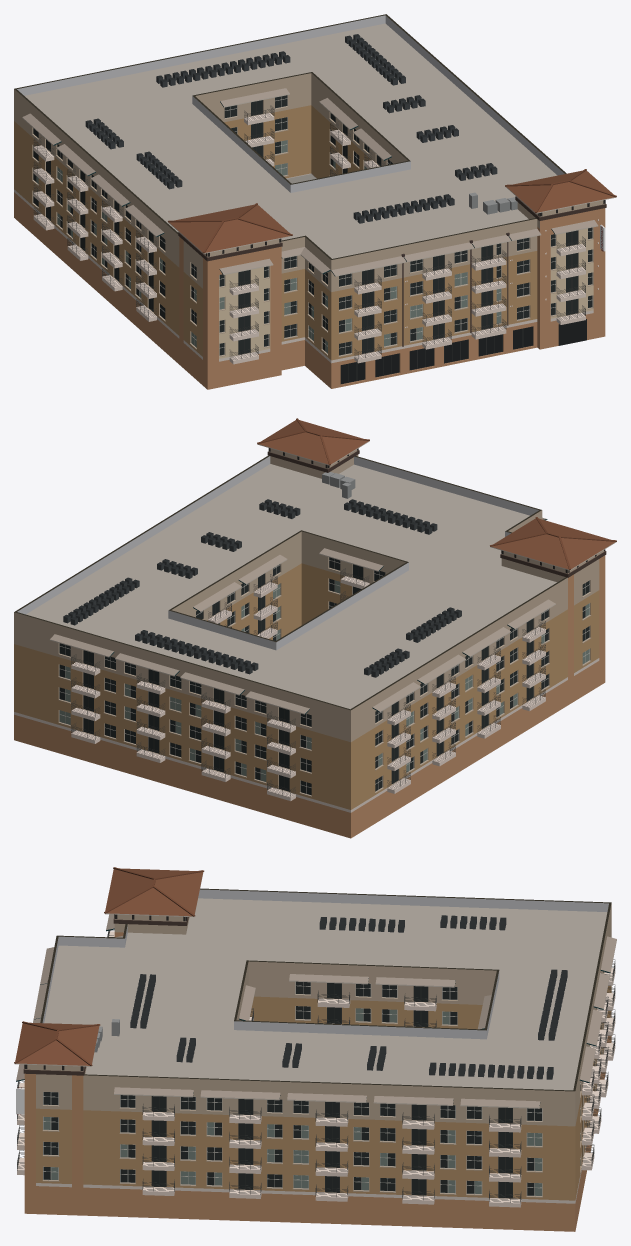
Rendered from grandmarc-austin-look.glb.
3 views of the same model, one above another, from view 1: azimuth 30°, elevation 25°; view 2: azimuth 150°, elevation 25°; view 3: azimuth 270°, elevation 25° (orthographic). The views are drawn at different scales.
Parts seen in each view (by area): view 1: n_roof_membrane, n_stucco_ochre, n_brick_tan, n_stucco_cream, n_glass_window, n_balcony_fascia, n_frame_dark_bronze, n_parapet_inner, n_roof_tile_terracotta, n_canopy_top, n_condenser_grey, n_window_surround (+12 smaller); view 2: n_roof_membrane, n_stucco_ochre, n_stucco_cream, n_brick_tan, n_glass_window, n_balcony_fascia, n_frame_dark_bronze, n_parapet_inner, n_roof_tile_terracotta, n_condenser_grey, n_canopy_top, n_window_surround (+8 smaller); view 3: n_roof_membrane, n_stucco_ochre, n_stucco_cream, n_brick_tan, n_glass_window, n_balcony_fascia, n_frame_dark_bronze, n_parapet_inner, n_canopy_top, n_roof_tile_terracotta, n_window_frame_light, n_condenser_grey (+8 smaller).
Boxes of the visible parts, x1=… form: n_roof_membrane: x1=24, y1=23, x2=557, y2=258; n_stucco_ochre: x1=14, y1=105, x2=537, y2=360; n_brick_tan: x1=14, y1=192, x2=605, y2=389; n_stucco_cream: x1=14, y1=73, x2=604, y2=291; n_glass_window: x1=33, y1=95, x2=592, y2=355; n_balcony_fascia: x1=33, y1=113, x2=598, y2=364; n_frame_dark_bronze: x1=33, y1=100, x2=585, y2=384; n_parapet_inner: x1=17, y1=15, x2=564, y2=192; n_roof_tile_terracotta: x1=169, y1=170, x2=614, y2=252; n_canopy_top: x1=22, y1=88, x2=597, y2=275; n_condenser_grey: x1=85, y1=35, x2=497, y2=223; n_window_surround: x1=32, y1=95, x2=593, y2=356; n_roof_membrane: x1=26, y1=464, x2=556, y2=709; n_stucco_ochre: x1=14, y1=563, x2=599, y2=809; n_stucco_cream: x1=14, y1=448, x2=604, y2=742; n_brick_tan: x1=14, y1=555, x2=605, y2=838; n_glass_window: x1=59, y1=557, x2=589, y2=795; n_balcony_fascia: x1=71, y1=576, x2=545, y2=800; n_frame_dark_bronze: x1=71, y1=564, x2=545, y2=796; n_parapet_inner: x1=17, y1=456, x2=538, y2=650; n_roof_tile_terracotta: x1=258, y1=420, x2=614, y2=569; n_condenser_grey: x1=63, y1=500, x2=461, y2=677; n_canopy_top: x1=50, y1=517, x2=555, y2=713; n_window_surround: x1=58, y1=557, x2=591, y2=796; n_roof_membrane: x1=44, y1=898, x2=607, y2=1090; n_stucco_ochre: x1=36, y1=986, x2=611, y2=1200; n_stucco_cream: x1=24, y1=903, x2=611, y2=1126; n_brick_tan: x1=24, y1=932, x2=611, y2=1231; n_glass_window: x1=43, y1=981, x2=601, y2=1197; n_balcony_fascia: x1=17, y1=931, x2=615, y2=1207; n_frame_dark_bronze: x1=17, y1=930, x2=615, y2=1202; n_parapet_inner: x1=42, y1=889, x2=608, y2=1039; n_canopy_top: x1=16, y1=914, x2=616, y2=1107; n_roof_tile_terracotta: x1=15, y1=868, x2=203, y2=1065; n_window_frame_light: x1=43, y1=981, x2=601, y2=1196; n_condenser_grey: x1=130, y1=917, x2=567, y2=1079.
Bounding box in the file's own units: 66.73 × 23.94 × 79.82.
